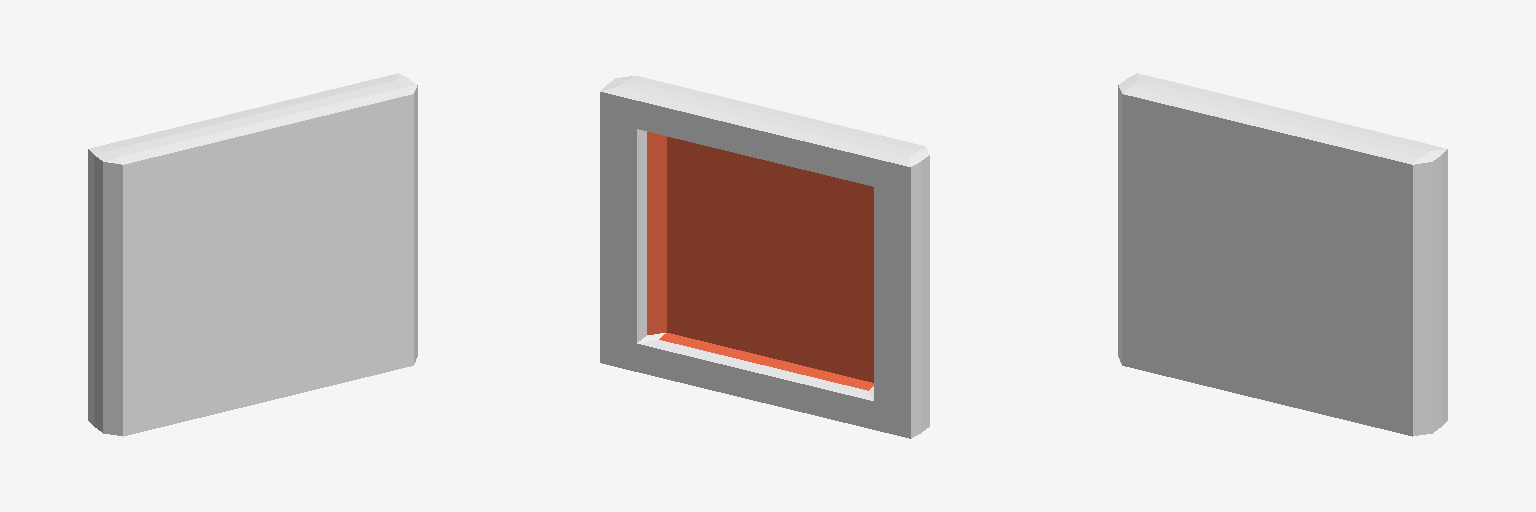
Rendered from Picture_3.obj.
3 views of the same model, side by side, from view 1: azimuth 30°, elevation 25°; view 2: azimuth 150°, elevation 25°; view 3: azimuth 330°, elevation 25° (orthographic).
Parts seen in each view (by area): view 1: Picture_3_Cube.029; view 2: Picture_3_Cube.029; view 3: Picture_3_Cube.029.
Boxes of the visible parts, x1=… form: Picture_3_Cube.029: x1=88, y1=73, x2=417, y2=436; Picture_3_Cube.029: x1=600, y1=75, x2=929, y2=438; Picture_3_Cube.029: x1=1118, y1=73, x2=1447, y2=436.
Size of the model in its own units: 0.84 by 0.7001 by 0.1171.